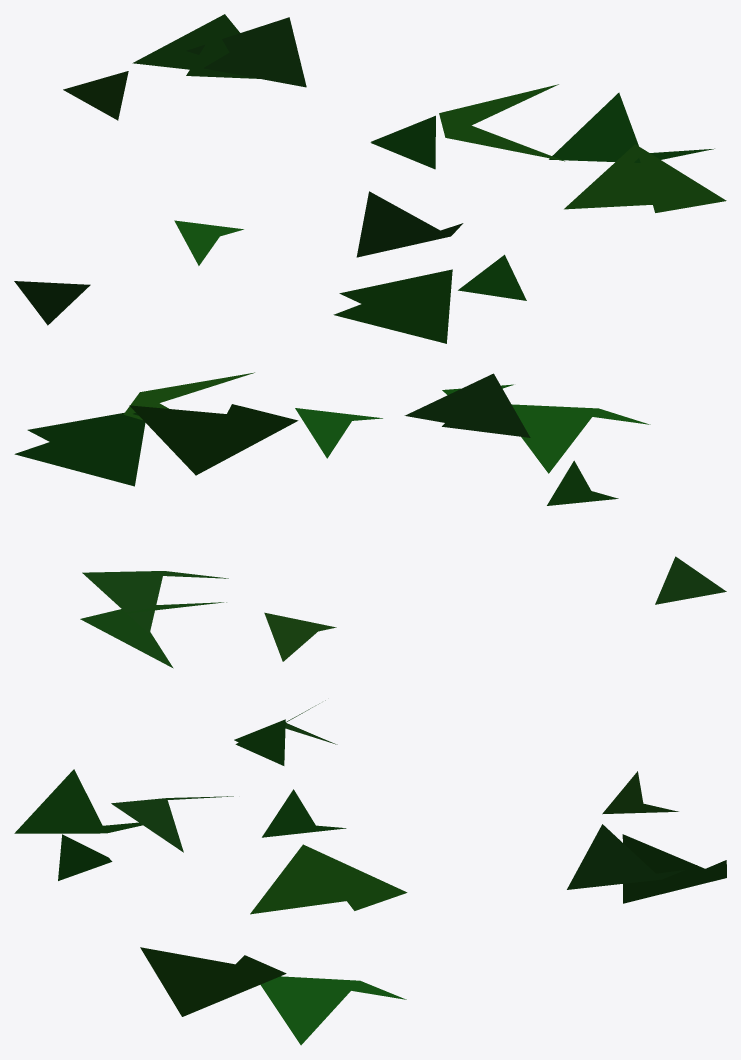
File: GroundCover_Moss_02.glb
3 renders of one model, top to bottom at view 1: azimuth 30°, elevation 25°; view 2: azimuth 150°, elevation 25°; view 3: azimuth 270°, elevation 25°, orthographic. The views are drawn at different scales.
Parts seen in each view (by area): view 1: GroundCover_Moss_02; view 2: GroundCover_Moss_02; view 3: GroundCover_Moss_02.
Boxes of the visible parts, x1,y1,x2,y2 form: GroundCover_Moss_02: (14,14,726,343); GroundCover_Moss_02: (14,372,726,668); GroundCover_Moss_02: (14,700,726,1045).
Bounding box in the file's own units: 0.2168 × 0.0291 × 0.2009.
